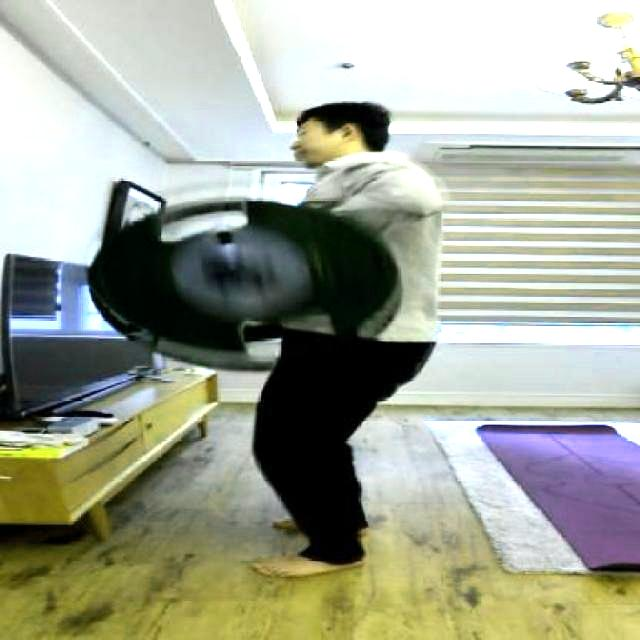barbell: (78, 193, 417, 367)
